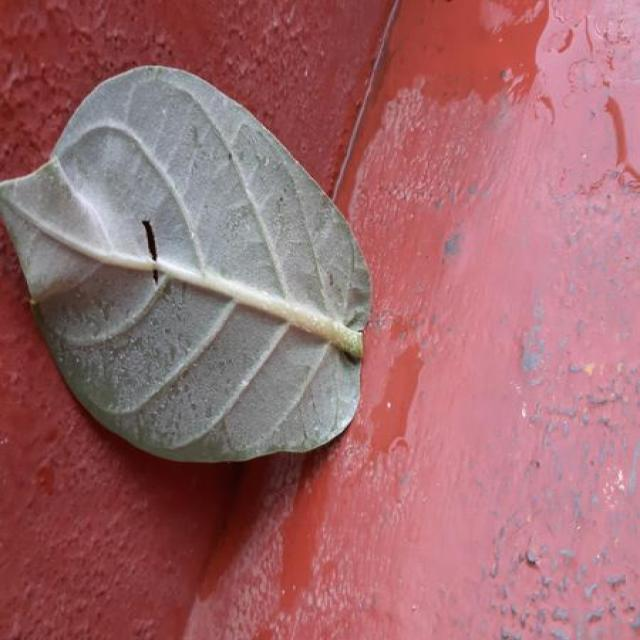ekka: (2, 66, 370, 462)
